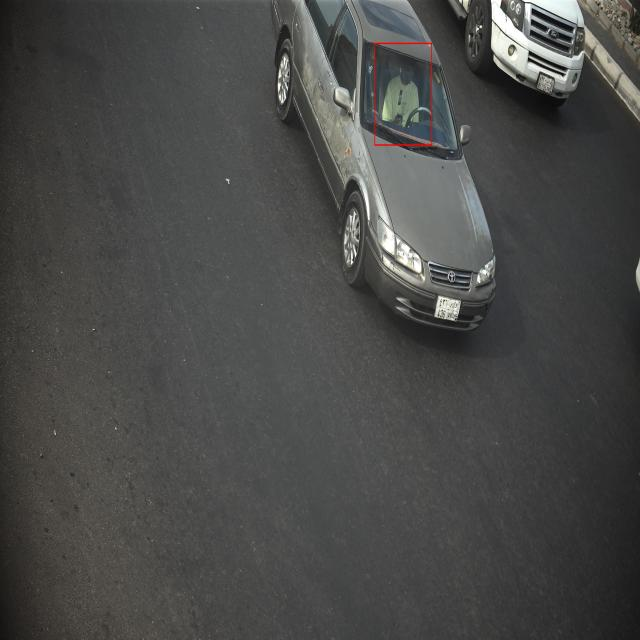windshield: (358, 38, 460, 159)
